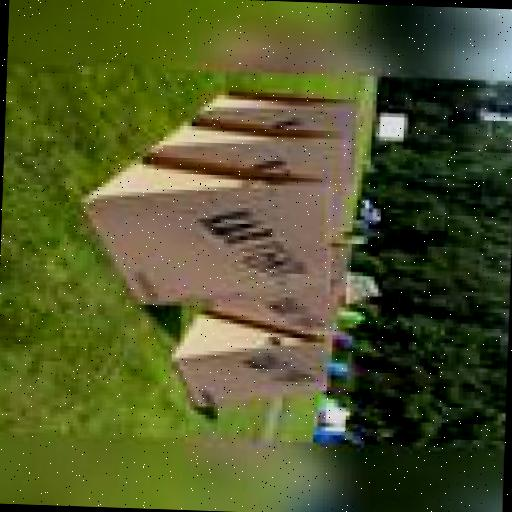cardboard: (86, 154, 348, 307), (144, 116, 360, 256), (207, 86, 370, 192), (171, 313, 334, 411), (210, 302, 342, 339)
